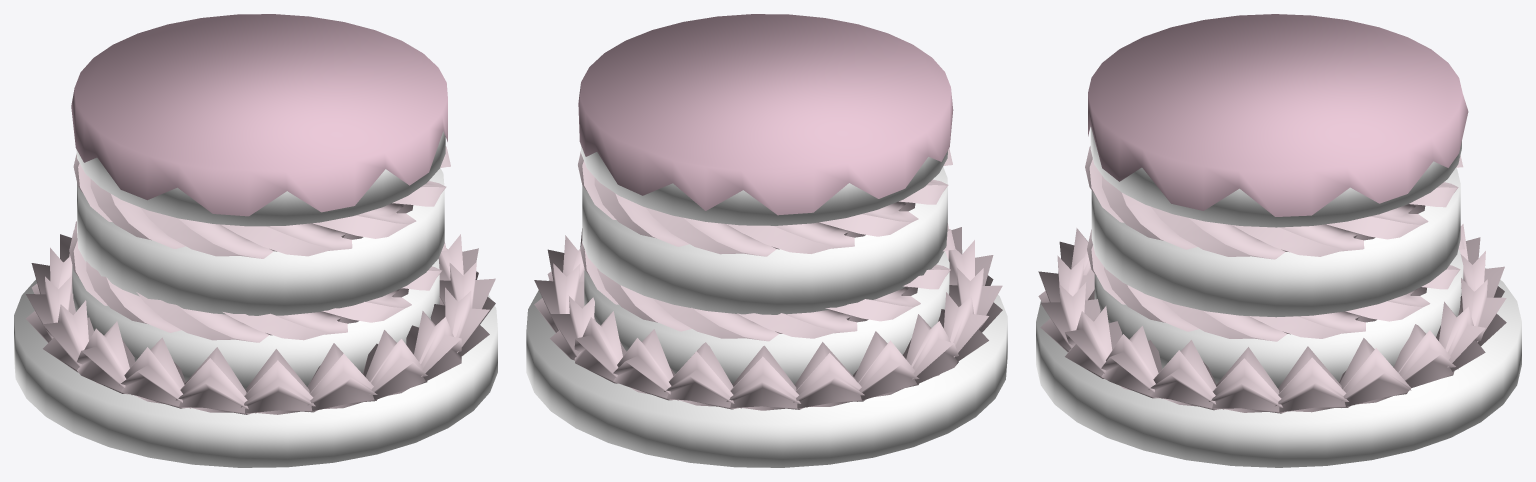
File: cake.glb
3 views of the same model, side by side, from view 1: azimuth 30°, elevation 25°; view 2: azimuth 150°, elevation 25°; view 3: azimuth 270°, elevation 25° (orthographic).
Visible parts, largest first — view 1: Glasur, Teller, Boden.001, Kreme.001, Boden, Kreme, Boden.002, Star.016, Star.017, Star.015, Star.018, Star.014 (+8 smaller); view 2: Glasur, Teller, Boden.001, Kreme.001, Boden, Kreme, Boden.002, Star.003, Star.002, Star.004, Star.001, Star.005 (+8 smaller); view 3: Glasur, Teller, Boden.001, Kreme.001, Boden, Kreme, Boden.002, Star.010, Star.009, Star.011, Star.008, Star.012 (+8 smaller).
Part boxes in pixels (<box>): Glasur: <box>71,14,447,216</box>; Teller: <box>14,279,497,467</box>; Boden.001: <box>77,168,444,315</box>; Kreme.001: <box>73,146,450,258</box>; Boden: <box>72,259,439,389</box>; Kreme: <box>69,226,446,342</box>; Boden.002: <box>76,131,445,226</box>; Star.016: <box>241,349,321,414</box>; Star.017: <box>176,347,256,414</box>; Star.015: <box>307,343,377,411</box>; Star.018: <box>119,337,190,408</box>; Star.014: <box>363,330,427,399</box>; Glasur: <box>578,14,953,215</box>; Teller: <box>526,280,1007,467</box>; Boden.001: <box>582,167,947,314</box>; Kreme.001: <box>578,148,952,256</box>; Boden: <box>584,251,949,384</box>; Kreme: <box>580,229,955,341</box>; Boden.002: <box>581,145,948,225</box>; Star.003: <box>726,345,807,410</box>; Star.002: <box>793,342,865,408</box>; Star.004: <box>664,342,741,409</box>; Star.001: <box>853,331,919,401</box>; Star.005: <box>613,329,678,400</box>; Glasur: <box>1088,14,1468,216</box>; Teller: <box>1036,268,1521,467</box>; Boden.001: <box>1091,168,1460,317</box>; Kreme.001: <box>1085,146,1463,259</box>; Boden: <box>1094,250,1463,387</box>; Kreme: <box>1087,229,1464,341</box>; Boden.002: <box>1090,126,1461,227</box>; Star.010: <box>1209,347,1290,413</box>; Star.009: <box>1275,346,1354,412</box>; Star.011: <box>1148,340,1224,410</box>; Star.008: <box>1338,338,1411,406</box>; Star.012: <box>1101,326,1162,398</box>.
Bounding box in the file's own units: 2 × 1.24 × 2.
